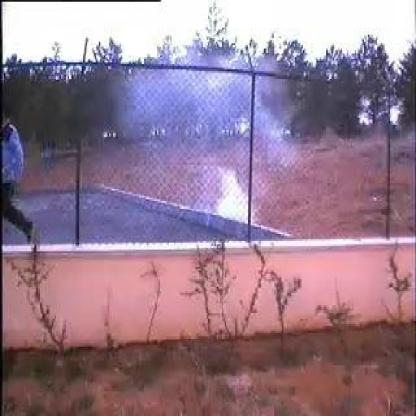-: (121, 61, 268, 220)
